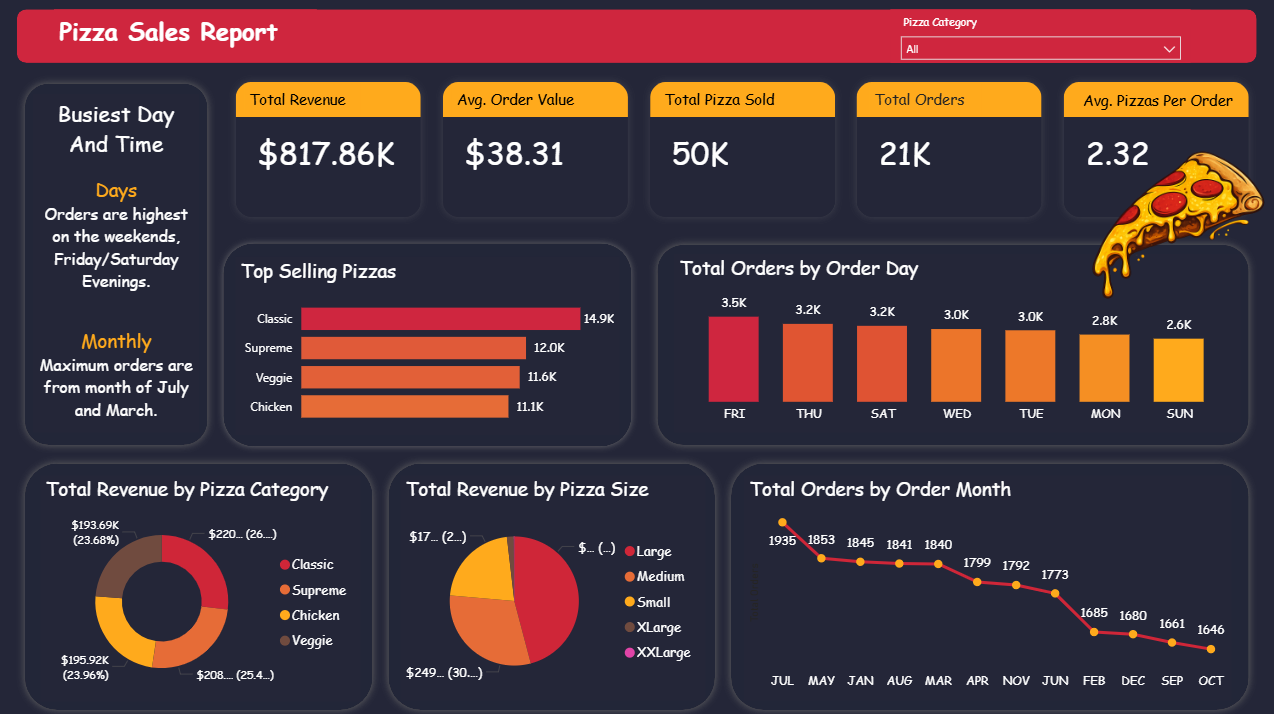

The dashboard page shown, as its layout file describes it:
{"tool":"powerbi","page":{"name":"Page 1","canvas":[1280,720],"ordinal":0},"visuals":[{"type":"shape","box":[18.8,11.2,1240,53.8],"z":0},{"type":"shape","box":[725,457.5,533.8,262.5],"z":1000},{"type":"shape","box":[382.5,457.5,342.5,262.5],"z":2000},{"type":"shape","box":[18.8,457.5,363.8,262.5],"z":3000},{"type":"shape","box":[651.2,238.8,607.5,216.2],"z":4000},{"type":"shape","box":[218.8,238.8,421.2,216.2],"z":5000},{"type":"cardVisual","fields":{"Data":["pizza_sales.Total Revenue","pizza_sales.Avg order Value","pizza_sales.Total Pizzas Sold","pizza_sales.Total Orders","pizza_sales.Avg Pizzas Per Order"]},"box":[218.8,65,1053.8,173.8],"z":6000},{"type":"textbox","box":[246.5,86,116.3,30.2],"z":7000},{"type":"textbox","box":[453.5,86,141.9,30.2],"z":8000},{"type":"textbox","box":[661.6,86,126.7,30.2],"z":9000},{"type":"textbox","box":[870.9,86,111.6,31.4],"z":10000},{"type":"textbox","box":[1080.2,87.2,162.8,30.2],"z":11000},{"type":"textbox","box":[56.2,11.2,262.5,50],"z":12000},{"type":"shape","box":[18.8,77.5,198.8,377.5],"z":13000},{"type":"clusteredBarChart","title":"Top Selling Pizzas","fields":{"Category":["pizza_sales.pizza_category"],"Y":["pizza_sales.Total Pizzas Sold"]},"box":[237.5,258.8,383.8,178.8],"z":14000},{"type":"columnChart","fields":{"Category":["pizza_sales.Order Day"],"Y":["pizza_sales.Total Orders"]},"box":[676.2,256.2,566.2,178.8],"z":15000},{"type":"donutChart","title":"Total Revenue by Pizza Category","fields":{"Category":["pizza_sales.pizza_category"],"Y":["pizza_sales.Total Revenue"]},"box":[42.5,477.5,320,226.2],"z":16000},{"type":"pieChart","title":"Total Revenue by Pizza Size","fields":{"Category":["pizza_sales.pizza_size"],"Y":["pizza_sales.Total Revenue"]},"box":[402.5,477.5,305,225],"z":17000},{"type":"lineChart","fields":{"Y":["pizza_sales.Total Orders"],"Category":["pizza_sales.Order Month"]},"box":[746.2,477.5,487.5,225],"z":18000},{"type":"textbox","box":[35,96.2,166.2,338.8],"z":19000},{"type":"image","box":[1051.2,61.2,228.8,326.2],"z":20000},{"type":"slicer","fields":{"Values":["pizza_sales.pizza_category"]},"box":[892.5,11.2,300,53.8],"z":21000}]}

Visuals, with their boxes in screenshot pixels (x1, y1, x2, y2), scaled from the page's 1280x720 canvas onto the 1274x714 screenshot:
shape: bbox=(19, 11, 1253, 64)
shape: bbox=(722, 454, 1253, 713)
shape: bbox=(381, 454, 722, 713)
shape: bbox=(19, 454, 381, 713)
shape: bbox=(648, 237, 1253, 451)
shape: bbox=(218, 237, 637, 451)
cardVisual - pizza_sales.Total Revenue x pizza_sales.Avg order Value: bbox=(218, 64, 1267, 237)
textbox: bbox=(245, 85, 361, 115)
textbox: bbox=(451, 85, 593, 115)
textbox: bbox=(658, 85, 785, 115)
textbox: bbox=(867, 85, 978, 116)
textbox: bbox=(1075, 86, 1237, 116)
textbox: bbox=(56, 11, 317, 61)
shape: bbox=(19, 77, 217, 451)
"Top Selling Pizzas" clusteredBarChart: bbox=(236, 257, 618, 434)
columnChart - pizza_sales.Order Day x pizza_sales.Total Orders: bbox=(673, 254, 1237, 431)
"Total Revenue by Pizza Category" donutChart: bbox=(42, 474, 361, 698)
"Total Revenue by Pizza Size" pieChart: bbox=(401, 474, 704, 697)
lineChart - pizza_sales.Total Orders x pizza_sales.Order Month: bbox=(743, 474, 1228, 697)
textbox: bbox=(35, 95, 200, 431)
image: bbox=(1046, 61, 1273, 384)
slicer - pizza_sales.pizza_category: bbox=(888, 11, 1187, 64)
